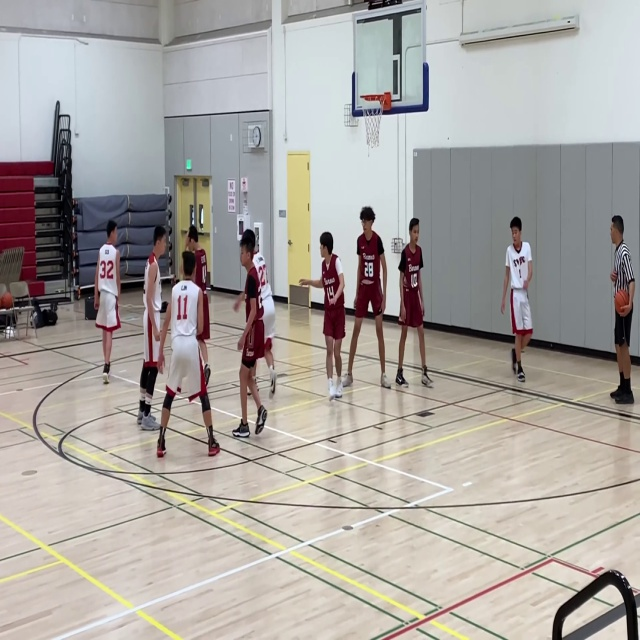Basketball: (614, 290, 631, 314), (0, 292, 13, 309)
